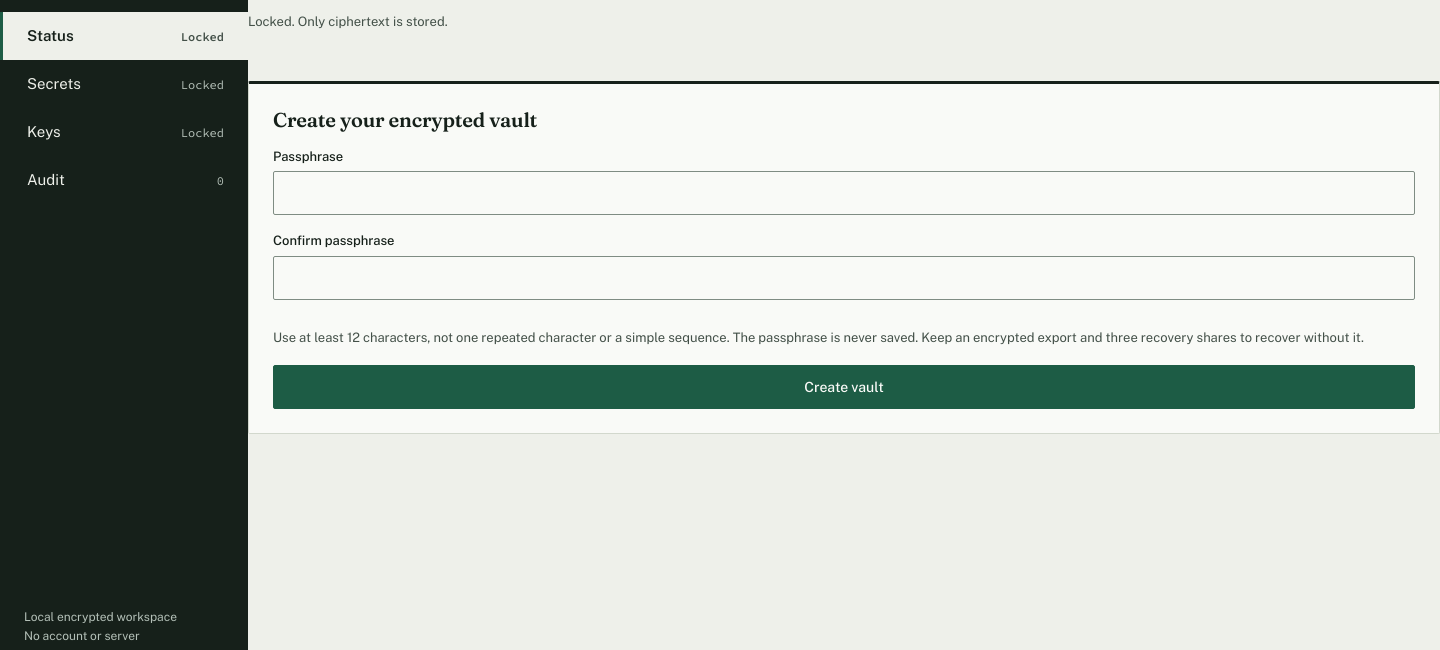
Test case: local encrypted notebook › locks and keeps the saved vault when the re-key save finds a newer revision
This screenshot has width=1440, height=650.
Step 1. Type "synthetic page passphrase" into the password field labelled "Passphrase" → (844, 193), box x1=273 y1=171 x2=1415 y2=215
Step 2. Type "synthetic page passphrase" into the password field labelled "Confirm passphrase" → (844, 278), box x1=273 y1=256 x2=1415 y2=300
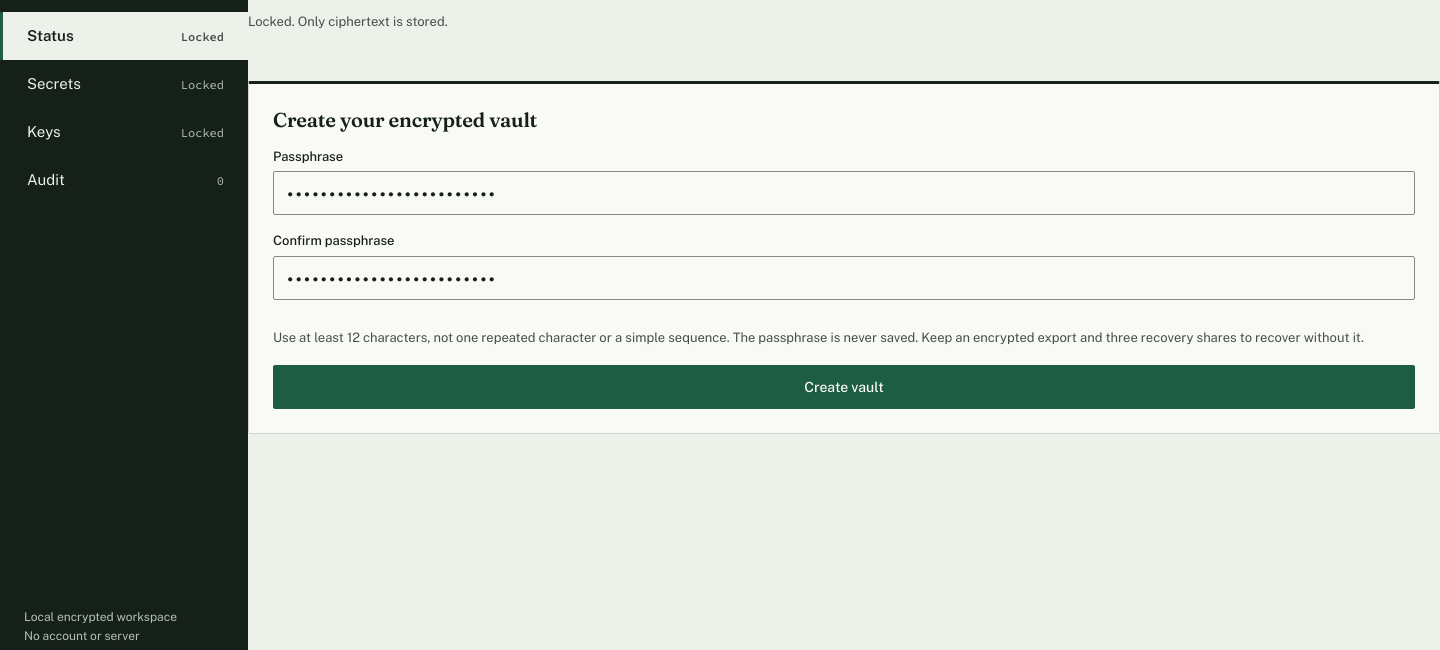
Step 3. Click the button "Create vault" → click(844, 387), box x1=273 y1=365 x2=1415 y2=409
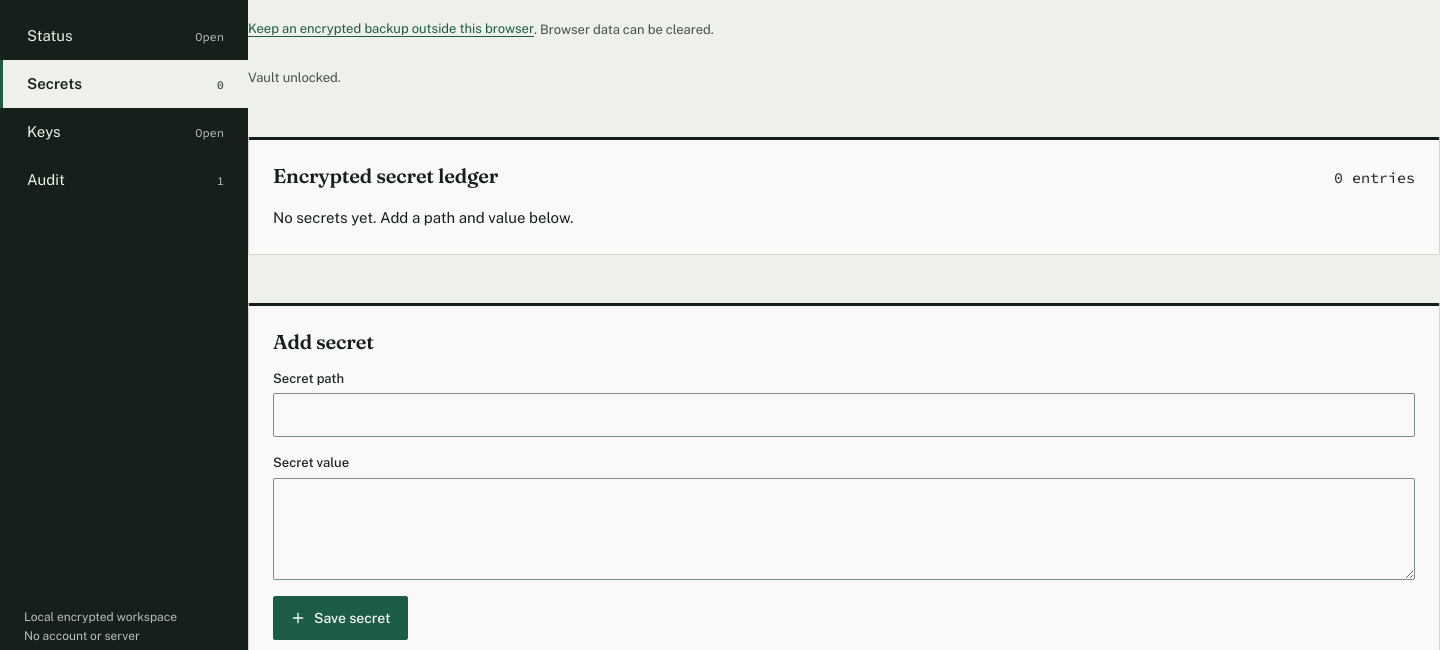
Now the text "Vault unlocked." is shown, box x1=248 y1=70 x2=341 y2=85
Step 4. Click the button "Keys Open" → click(124, 132), box x1=0 y1=108 x2=248 y2=156
(page scrolled)
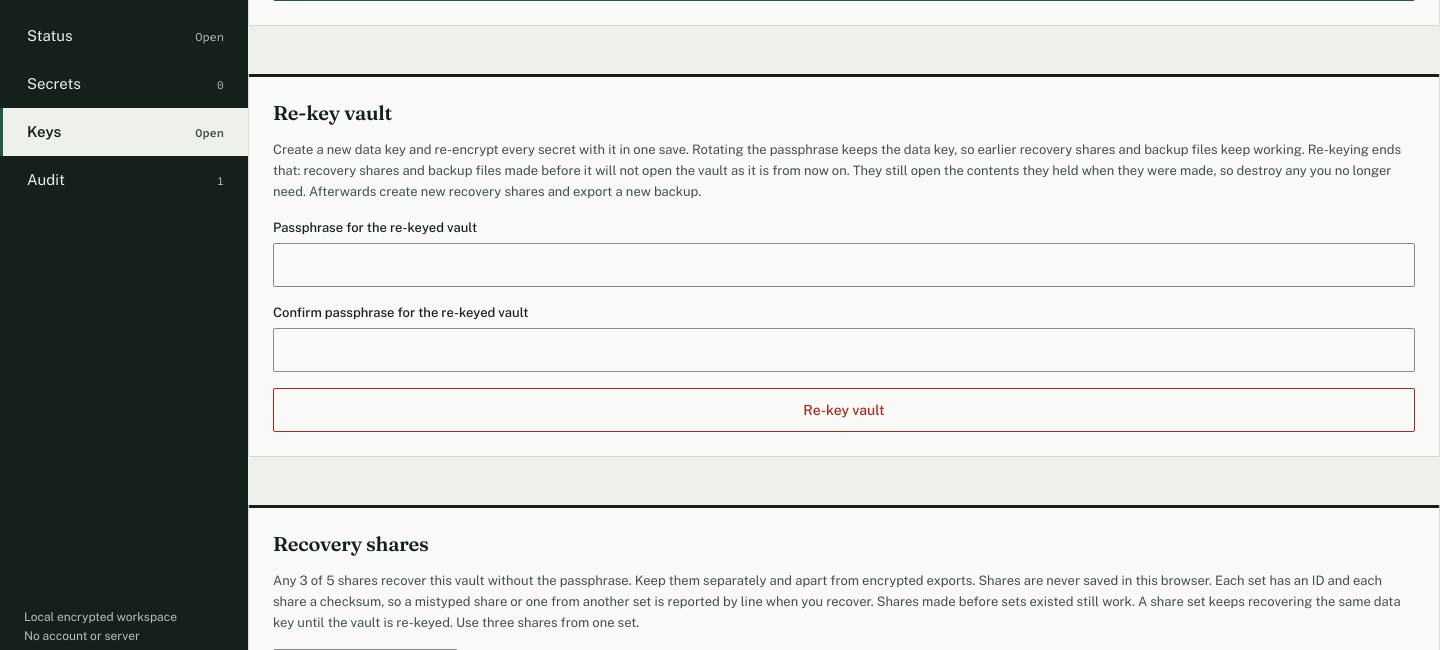
Step 5. Type "synthetic rekeyed phrase" into the password field labelled "Passphrase for the re-keyed vault" → (844, 265), box x1=273 y1=243 x2=1415 y2=287
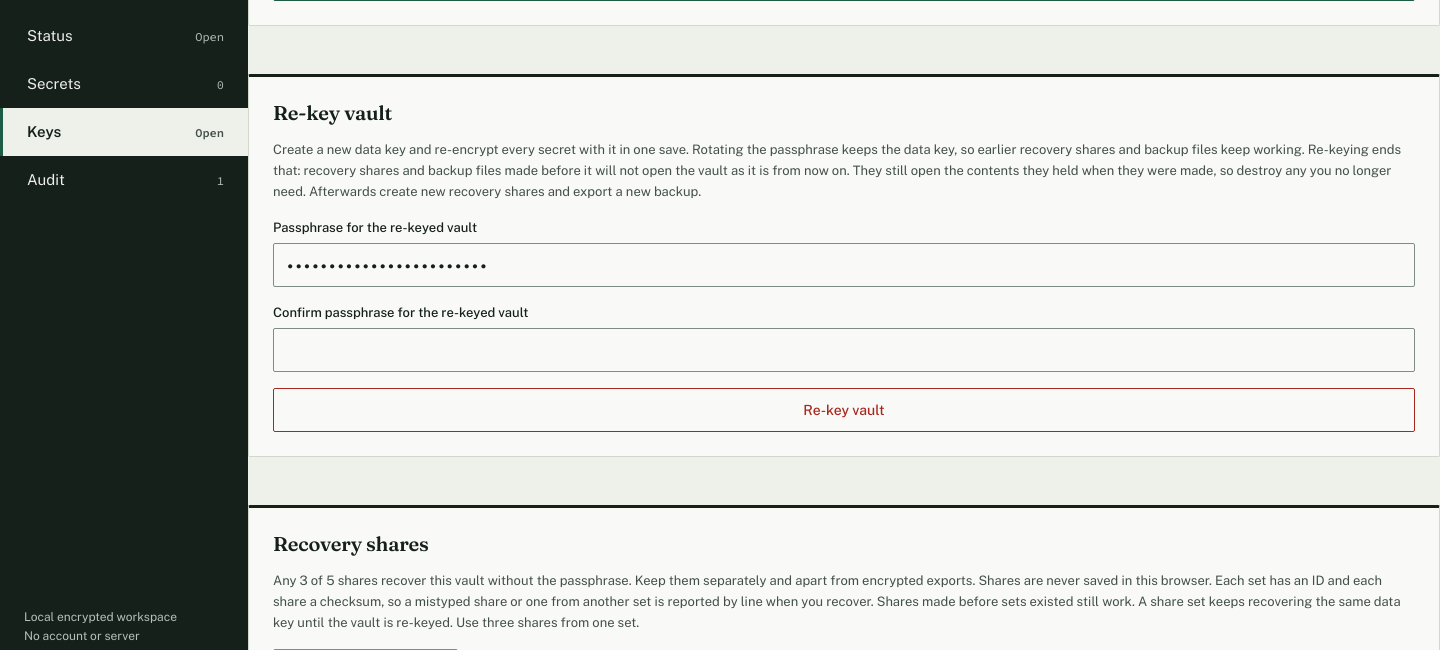
Step 6. Type "synthetic rekeyed phrase" into the password field labelled "Confirm passphrase for the re-keyed vault" → (844, 350), box x1=273 y1=328 x2=1415 y2=372
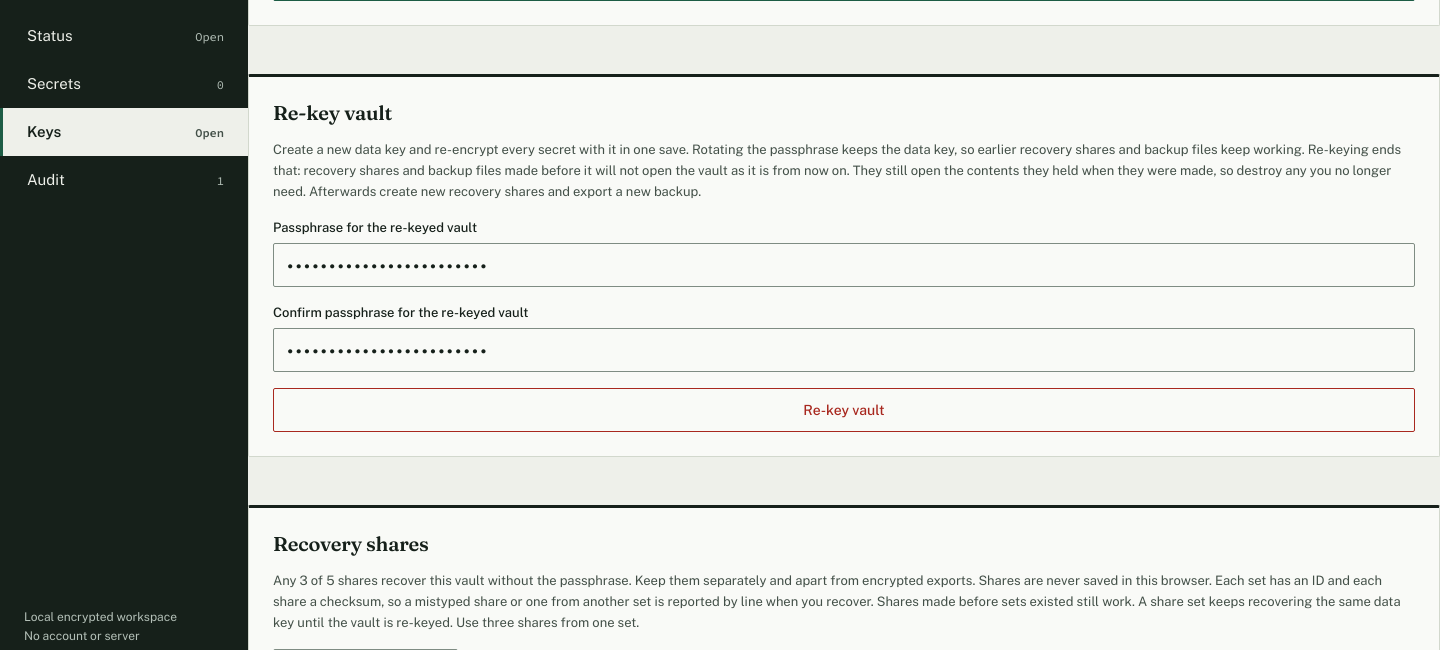
Step 7. Click the button "Re-key vault" → click(844, 410), box x1=273 y1=388 x2=1415 y2=432
(page scrolled)
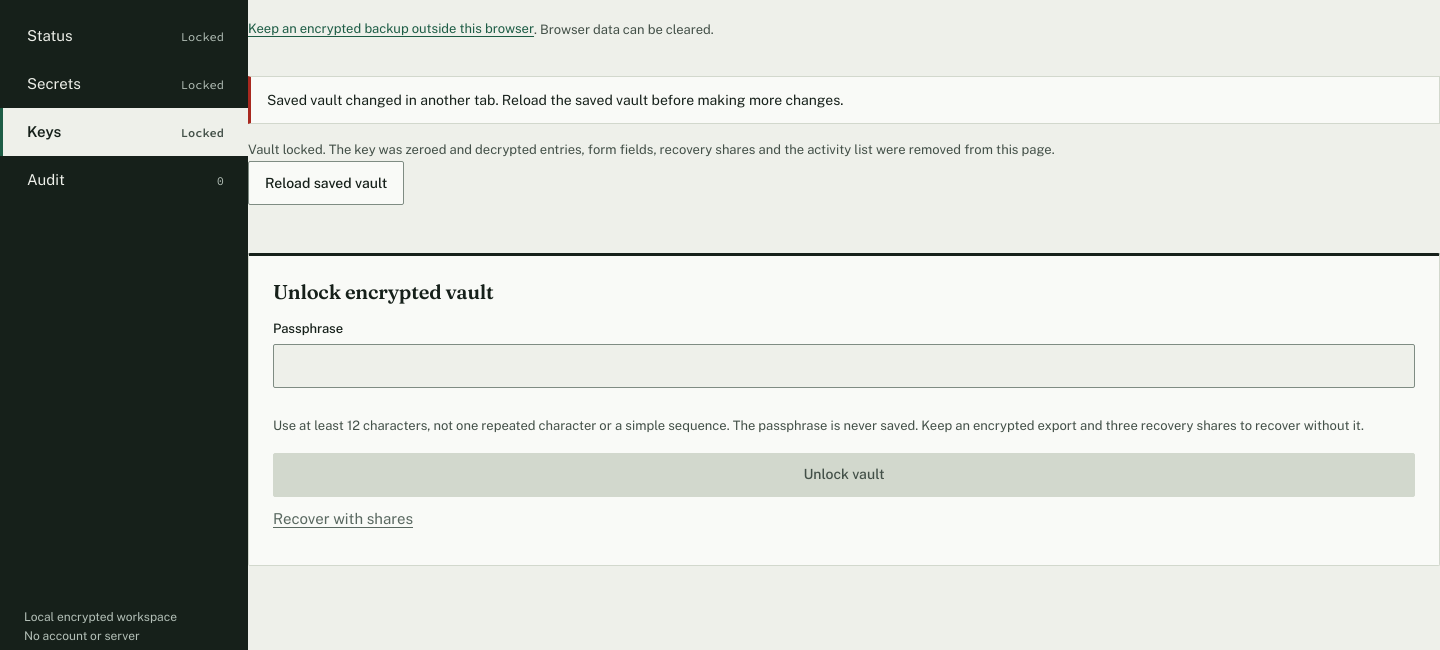
Now the 1st message shows "another tab", box x1=267 y1=92 x2=843 y2=108
Now the button "Reload saved vault" is enabled, box x1=248 y1=161 x2=404 y2=205
